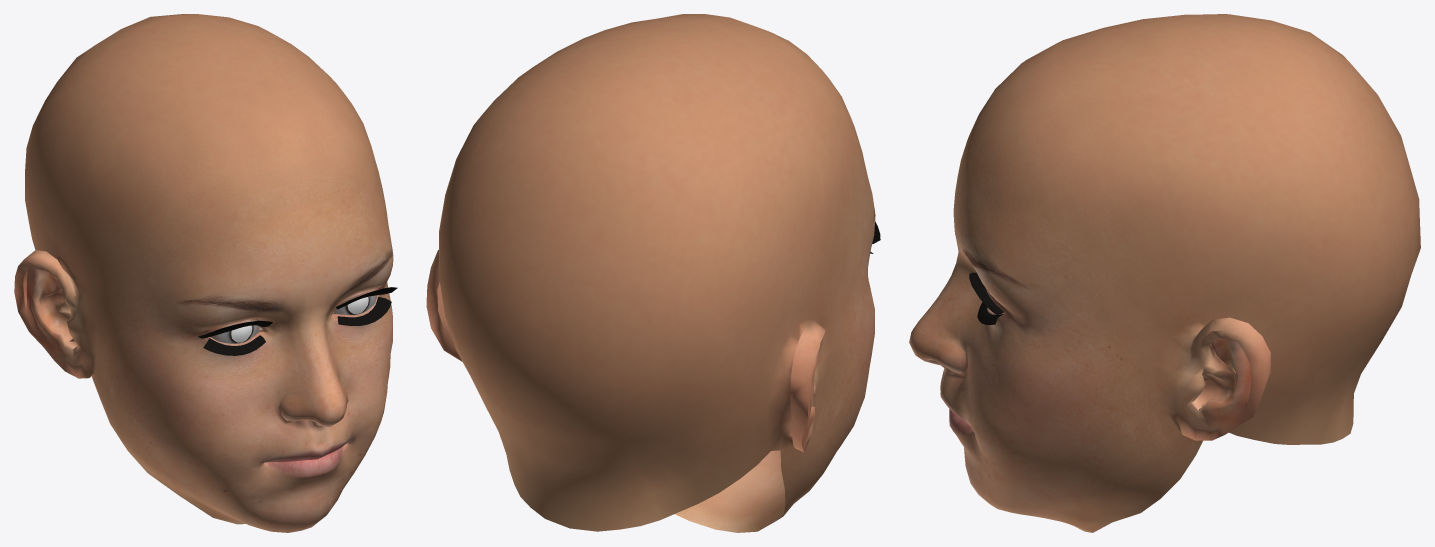
File: Fat.obj
3 views of the same model, side by side, from view 1: azimuth 30°, elevation 25°; view 2: azimuth 150°, elevation 25°; view 3: azimuth 270°, elevation 25° (orthographic). The views are drawn at different scales.
Visible parts, largest first — view 1: Head, rEye, lEye; view 2: Head; view 3: Head.
Part boxes in pixels (x1,y1,x2,y2): Head: [14, 14, 397, 532]; rEye: [210, 325, 259, 343]; lEye: [334, 295, 377, 314]; Head: [426, 14, 880, 532]; Head: [909, 14, 1420, 532].
Bounding box in the file's own units: 18.29 × 24.18 × 22.72.
